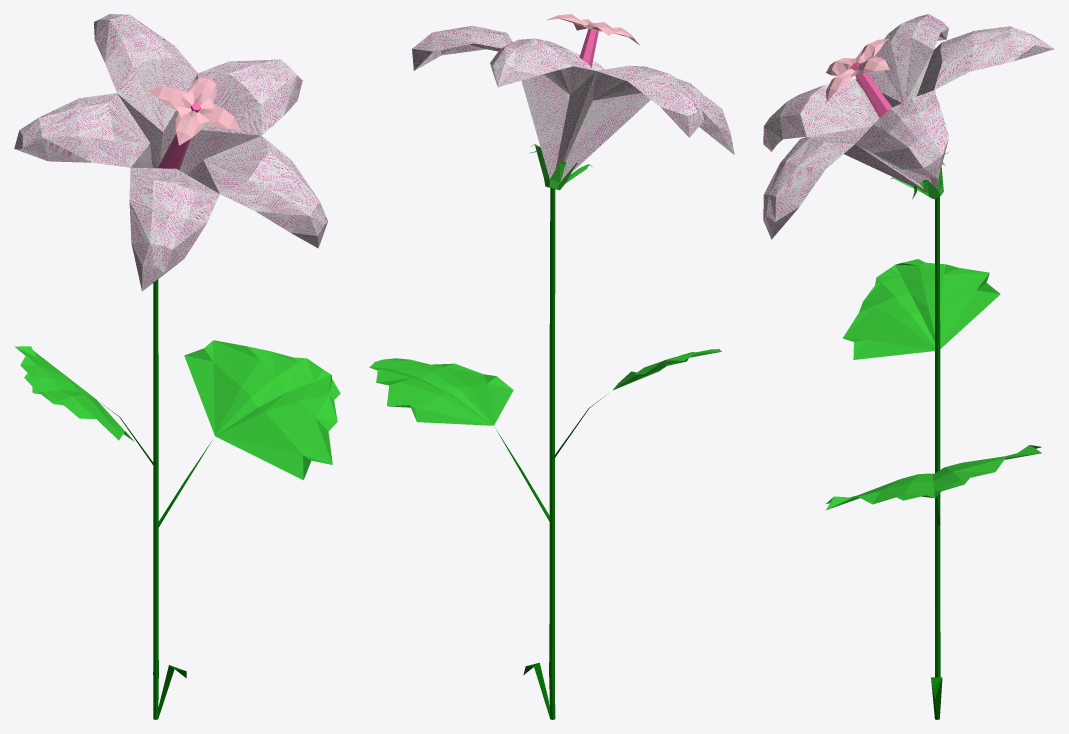
The model's file is flower.dae.
3 renders of one model, left to right at view 1: azimuth 30°, elevation 25°; view 2: azimuth 150°, elevation 25°; view 3: azimuth 270°, elevation 25°, orthographic. The views are drawn at different scales.
Parts seen in each view (by area): view 1: petals, leaf (×2), group_0, innner, stem; view 2: petals (×3), leaf (×2), group_0, joint, innner; view 3: petals (×2), leaf (×2), group_0, innner, stem, joint.
Part boxes in pixels (x1,y1,x2,y2): petals: [14, 14, 327, 291]; leaf (×2): [15, 340, 340, 480]; group_0: [101, 279, 212, 719]; innner: [148, 75, 240, 145]; stem: [158, 103, 200, 170]; petals (×3): [412, 25, 734, 180]; leaf (×2): [369, 349, 721, 425]; group_0: [496, 188, 608, 719]; joint: [529, 144, 592, 190]; innner: [546, 14, 639, 45]; petals (×2): [763, 14, 1054, 239]; leaf (×2): [826, 259, 1042, 509]; group_0: [931, 196, 942, 719]; innner: [826, 39, 889, 101]; stem: [850, 62, 891, 118]; joint: [890, 151, 949, 199].
Size of the model in its own units: 8.61 by 6.7 by 17.46.
